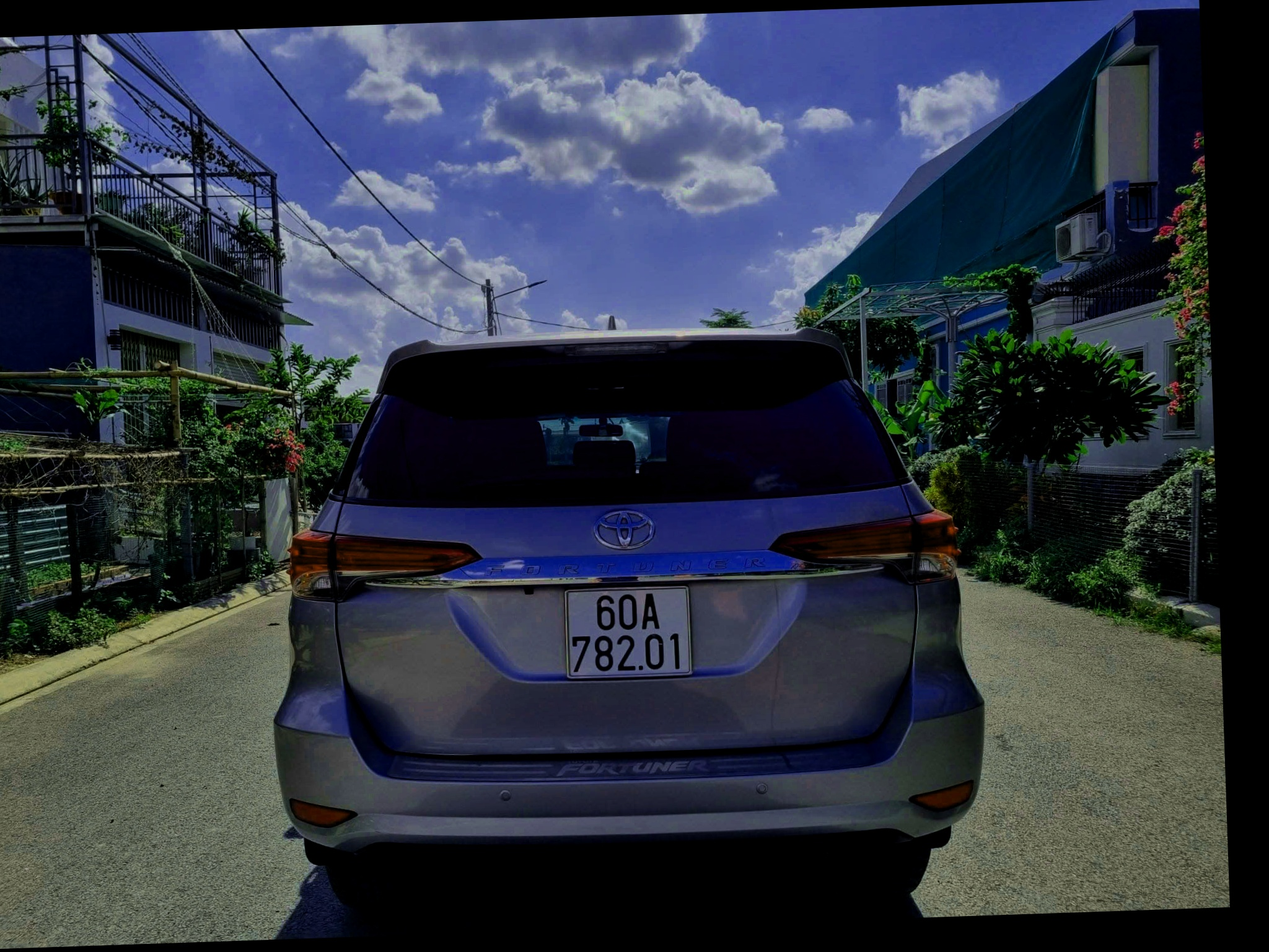Bien-so: (609, 582, 758, 701)
